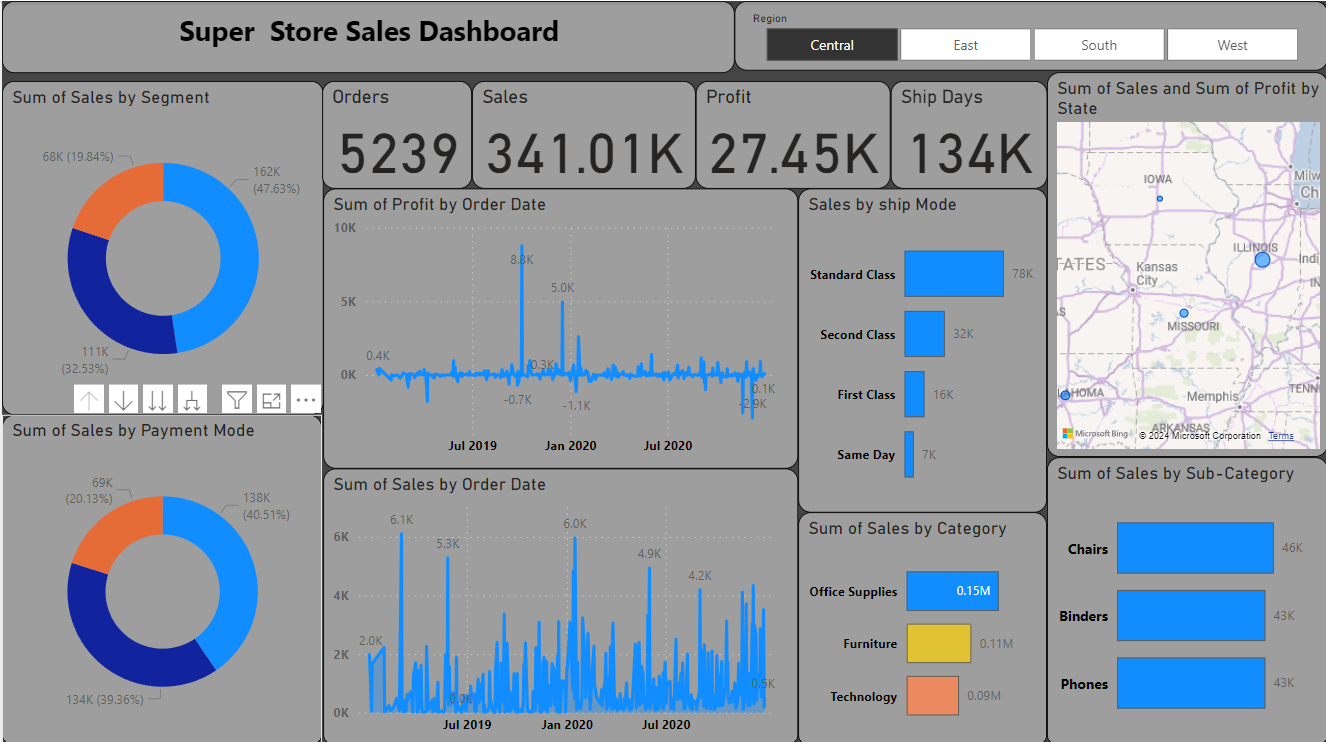

The page's visual inventory and layout, read from the dashboard file:
{"tool":"powerbi","page":{"name":"Page 1","canvas":[1280,720],"ordinal":0},"visuals":[{"type":"clusteredBarChart","fields":{"Category":["Sheet1.Category"],"Y":["Sum(Sheet1.Sales)"]},"box":[768.5,493.4,240.1,226.8],"z":0},{"type":"clusteredBarChart","title":"Sum of Sales by Sub-Category","fields":{"Category":["Sheet1.Sub-Category"],"Y":["Sum(Sheet1.Sales)"]},"box":[1008.6,440.4,271.4,279.9],"z":1000},{"type":"clusteredBarChart","title":"Sales by ship Mode","fields":{"Category":["Sheet1.Ship Mode"],"Y":["Sum(Sheet1.Sales)"]},"box":[768.5,181,240.1,312.5],"z":2000},{"type":"areaChart","fields":{"Y":["Sum(Sheet1.Sales)"],"Category":["Sheet1.Order Date.Variation.Date Hierarchy.Day"]},"box":[310.1,451.2,458.4,269],"z":3000},{"type":"areaChart","fields":{"Category":["Sheet1.Order Date.Variation.Date Hierarchy.Day"],"Y":["Sum(Sheet1.Profit)"]},"box":[310.1,181,458.4,270.2],"z":4000},{"type":"map","fields":{"Category":["Sheet1.State"],"Size":["Sum(Sheet1.Sales)"]},"box":[1008.6,68.8,271.4,371.6],"z":5000},{"type":"donutChart","fields":{"Category":["Sheet1.Segment"],"Y":["Sum(Sheet1.Sales)"]},"box":[0,77.2,310.1,322.1],"z":6000},{"type":"donutChart","fields":{"Category":["Sheet1.Payment Mode","Sheet1.Segment"],"Y":["Sum(Sheet1.Sales)"]},"box":[0,399.3,308.8,320.9],"z":7000},{"type":"slicer","fields":{"Values":["Sheet1.Region"]},"box":[707,0,573.1,67.6],"z":8000},{"type":"textbox","box":[0,0,707,70],"z":9000},{"type":"card","title":"Sales","fields":{"Values":["Sum(Sheet1.Sales)"]},"box":[453.6,77.2,216,103.8],"z":10000},{"type":"card","title":"Orders","fields":{"Values":["Sum(Sheet1.Quantity)"]},"box":[308.8,77.2,144.8,103.8],"z":11000},{"type":"card","title":"Profit","fields":{"Values":["Sum(Sheet1.Profit)"]},"box":[669.6,77.2,188.2,103.8],"z":12000},{"type":"card","title":"Ship Days","fields":{"Values":["Sum(Sheet1.avg_delivery)"]},"box":[857.8,77.2,150.8,103.8],"z":13000}]}

Visuals, with their boxes in screenshot pixels (x1, y1, x2, y2), scaled from the page's 1280x720 canvas onto the 1326x742 screenshot:
clusteredBarChart - Sheet1.Category x Sum(Sheet1.Sales): left=796, top=508, right=1045, bottom=741
"Sum of Sales by Sub-Category" clusteredBarChart: left=1045, top=454, right=1325, bottom=741
"Sales by ship Mode" clusteredBarChart: left=796, top=187, right=1045, bottom=509
areaChart - Sum(Sheet1.Sales) x Sheet1.Order Date.Variation.Date Hierarchy.Day: left=321, top=465, right=796, bottom=741
areaChart - Sheet1.Order Date.Variation.Date Hierarchy.Day x Sum(Sheet1.Profit): left=321, top=187, right=796, bottom=465
map - Sheet1.State x Sum(Sheet1.Sales): left=1045, top=71, right=1325, bottom=454
donutChart - Sheet1.Segment x Sum(Sheet1.Sales): left=0, top=80, right=321, bottom=412
donutChart - Sheet1.Payment Mode x Sheet1.Segment: left=0, top=412, right=320, bottom=741
slicer - Sheet1.Region: left=732, top=0, right=1325, bottom=70
textbox: left=0, top=0, right=732, bottom=72
"Sales" card: left=470, top=80, right=694, bottom=187
"Orders" card: left=320, top=80, right=470, bottom=187
"Profit" card: left=694, top=80, right=889, bottom=187
"Ship Days" card: left=889, top=80, right=1045, bottom=187
